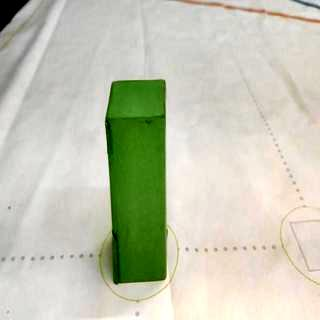greenbox: (104, 78, 170, 284)
